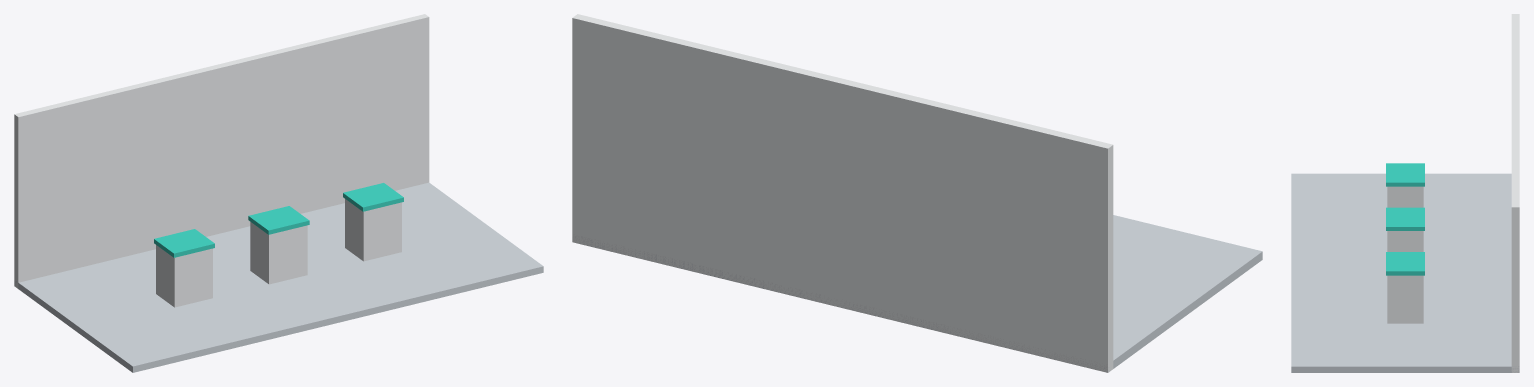
3 views of the same model, side by side, from view 1: azimuth 30°, elevation 25°; view 2: azimuth 150°, elevation 25°; view 3: azimuth 270°, elevation 25° (orthographic). The views are drawn at different scales.
Visible parts, largest first — view 1: Exhibition Booth Concept; view 2: Exhibition Booth Concept; view 3: Exhibition Booth Concept.
Boxes of the visible parts, bbox=[...] form: Exhibition Booth Concept: bbox=[14, 14, 543, 372]; Exhibition Booth Concept: bbox=[572, 14, 1262, 372]; Exhibition Booth Concept: bbox=[1291, 14, 1519, 372].
Size of the model in its own units: 8 by 3.2 by 4.
